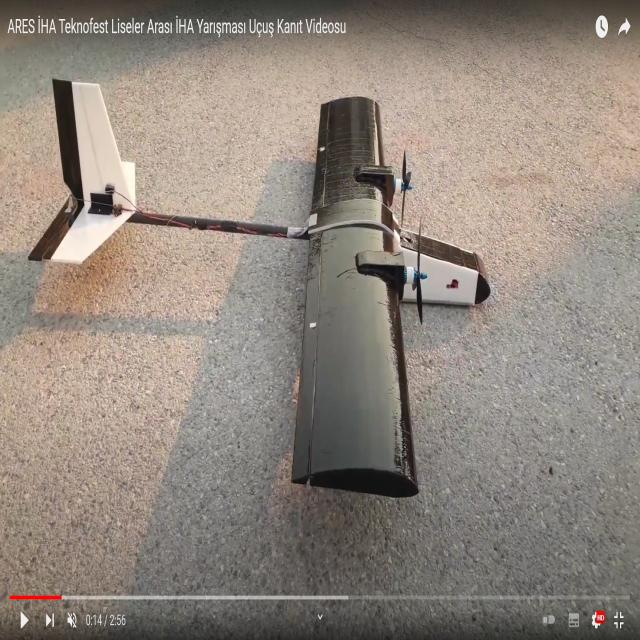iha: (57, 79, 488, 488)
